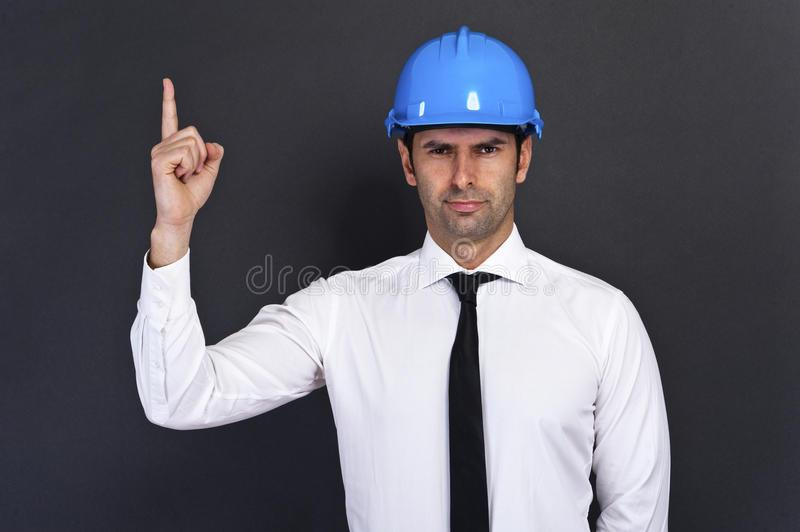helmet: (386, 27, 546, 145)
